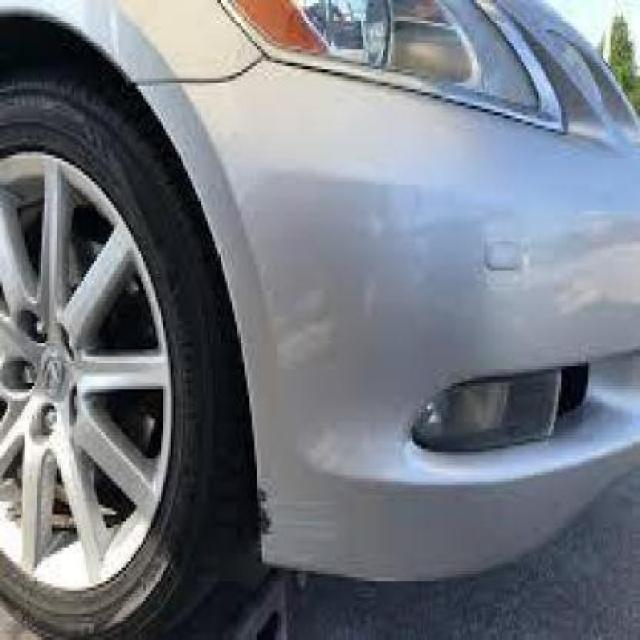scratch: (254, 471, 344, 564)
